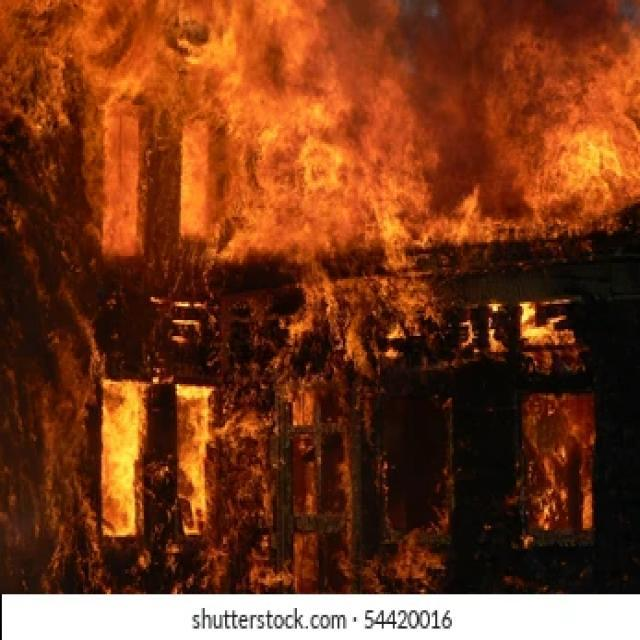fire: (0, 0, 598, 606)
